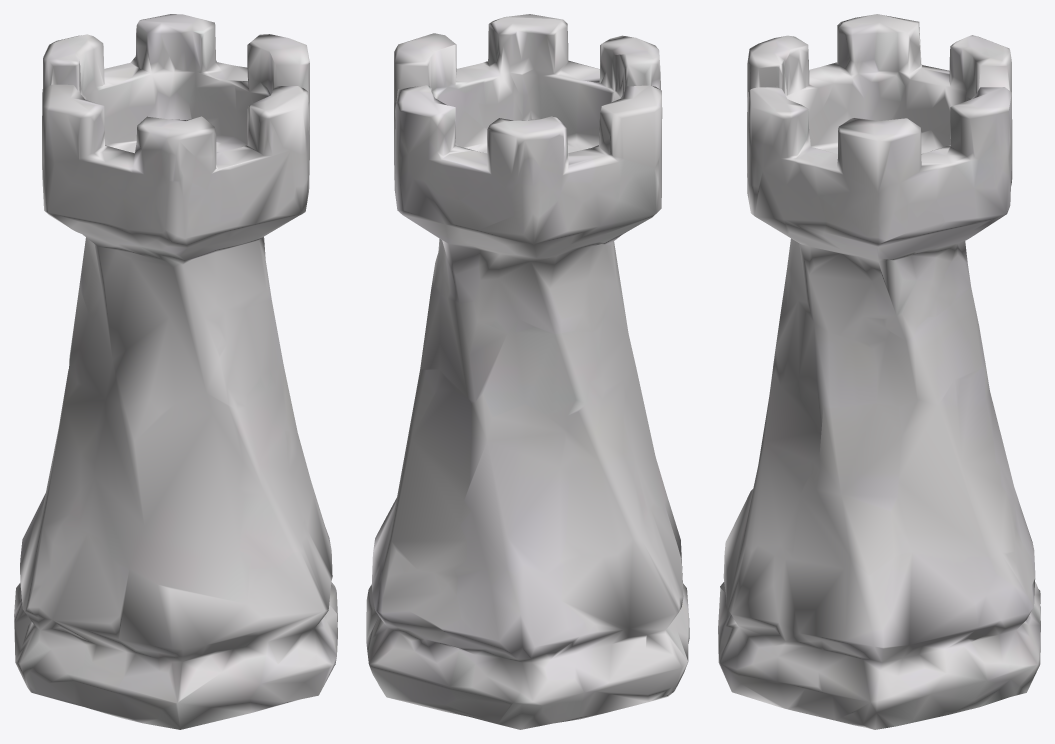
Rendered from hexa_rook_white.glb.
3 views of the same model, side by side, from view 1: azimuth 30°, elevation 25°; view 2: azimuth 150°, elevation 25°; view 3: azimuth 270°, elevation 25° (orthographic).
Size of the model in its own units: 1.12 by 2 by 0.998.
1 material, 1 textured.
